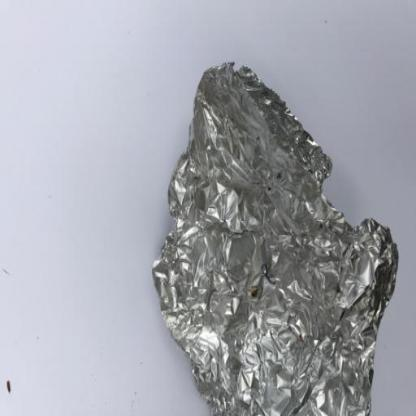METAL: (150, 59, 398, 415)
